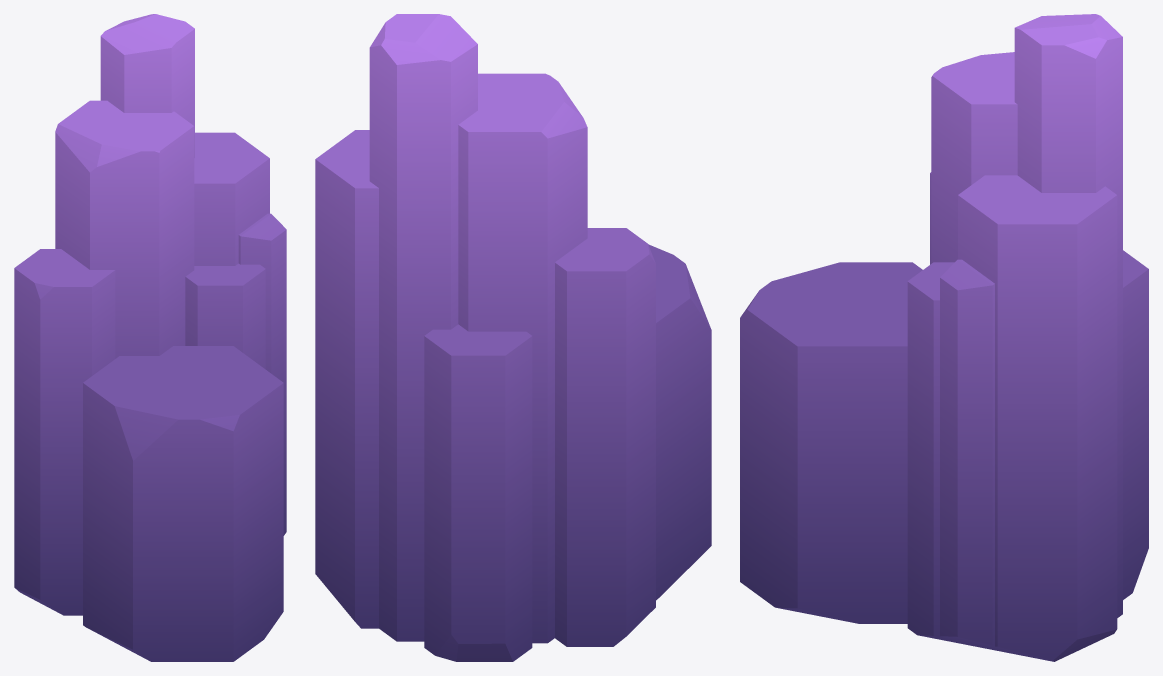
File: Crystal_P_14.glb
The picture shows the model from 3 angles, left to right: view 1: azimuth 30°, elevation 25°; view 2: azimuth 150°, elevation 25°; view 3: azimuth 270°, elevation 25°; orthographic projection. The views are drawn at different scales.
Visible parts, largest first — view 1: crystal_14; view 2: crystal_14; view 3: crystal_14.
Boxes of the visible parts, x1,y1,x2,y2 form: crystal_14: (14, 14, 286, 661); crystal_14: (315, 14, 711, 661); crystal_14: (740, 14, 1148, 661).
Bounding box in the file's own units: 0.5014 × 1 × 0.6293.
1 material, 1 textured.
